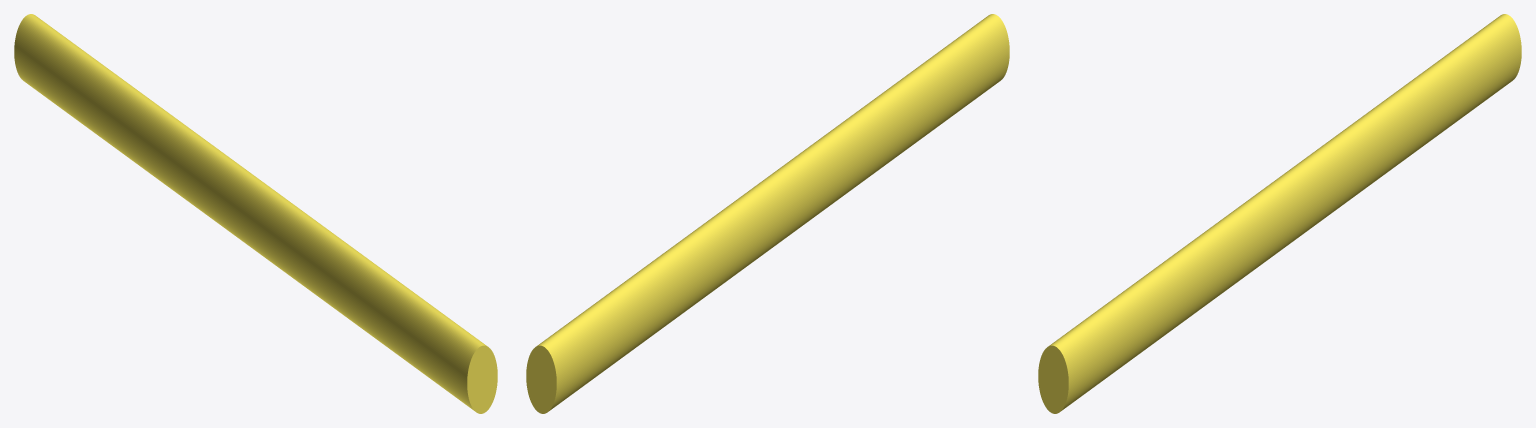
File: ray.obj
The picture shows the model from 3 angles, left to right: view 1: azimuth 30°, elevation 25°; view 2: azimuth 150°, elevation 25°; view 3: azimuth 330°, elevation 25°; orthographic projection.
Visible parts, largest first — view 1: Object.1; view 2: Object.1; view 3: Object.1.
Boxes of the visible parts, x1=… form: Object.1: x1=14, y1=14, x2=497, y2=413; Object.1: x1=526, y1=14, x2=1009, y2=413; Object.1: x1=1038, y1=14, x2=1521, y2=413.
Size of the model in its own units: 16.53 by 35.08 by 423.
